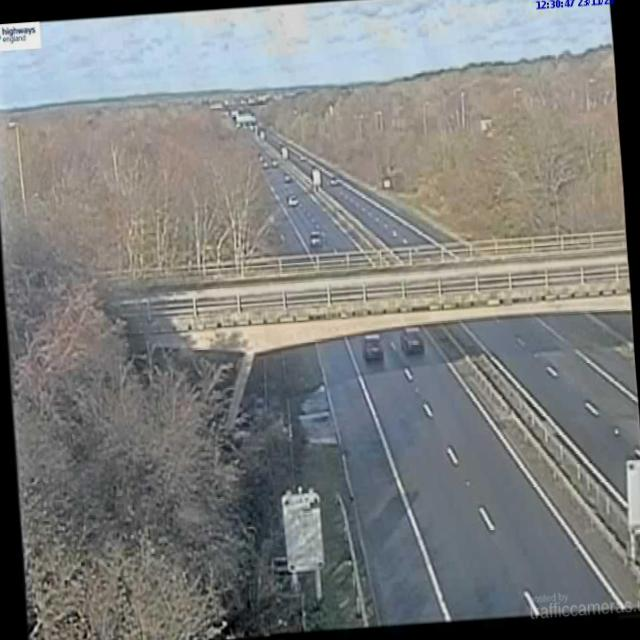foliage: (0, 104, 270, 640)
